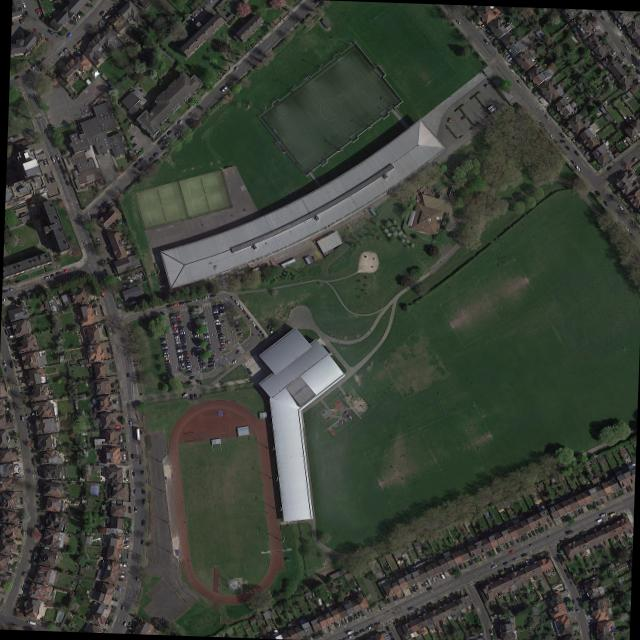large-vehicle: (220, 85, 227, 92), (438, 572, 445, 579), (345, 629, 353, 635), (135, 428, 139, 440), (26, 620, 35, 625), (65, 32, 71, 38), (599, 512, 606, 517), (594, 518, 601, 523), (608, 511, 615, 516), (565, 530, 572, 535), (426, 578, 431, 585), (164, 303, 171, 307), (100, 291, 104, 298), (62, 47, 67, 52), (114, 425, 120, 428)
small-vehicle: (488, 106, 495, 113), (46, 28, 53, 35), (194, 378, 201, 385), (173, 131, 180, 137), (187, 117, 194, 123), (557, 132, 564, 138), (545, 104, 552, 110), (127, 135, 134, 141), (71, 16, 78, 22), (73, 12, 80, 18), (103, 13, 110, 19), (486, 104, 493, 110), (622, 43, 628, 50), (485, 550, 491, 557), (377, 604, 383, 611), (575, 584, 582, 590), (608, 194, 614, 201), (197, 361, 205, 366), (583, 150, 589, 156), (161, 134, 167, 140), (176, 119, 182, 125), (482, 39, 488, 45), (130, 142, 136, 148), (112, 6, 118, 12), (137, 165, 143, 171), (137, 157, 143, 163), (147, 156, 153, 162), (152, 151, 158, 157), (629, 63, 635, 69), (619, 51, 625, 57), (609, 50, 615, 56), (572, 150, 578, 156), (181, 392, 187, 398), (555, 554, 561, 560), (346, 633, 352, 639), (602, 200, 608, 206), (628, 233, 634, 239), (634, 59, 640, 65), (605, 165, 611, 171), (598, 14, 604, 20), (617, 60, 623, 66), (633, 68, 639, 74), (628, 218, 634, 224), (622, 225, 628, 231), (573, 606, 578, 613), (27, 203, 34, 208), (570, 598, 575, 605), (510, 557, 517, 562), (200, 2, 207, 7), (187, 375, 194, 380), (176, 354, 183, 359), (351, 631, 358, 636), (494, 546, 499, 553), (364, 625, 371, 630), (526, 531, 531, 538), (131, 618, 138, 623), (187, 311, 194, 316), (194, 344, 201, 349), (206, 359, 213, 364), (216, 302, 223, 307), (128, 300, 135, 305), (118, 563, 126, 567), (208, 293, 216, 297), (122, 544, 128, 549), (568, 580, 573, 586), (459, 115, 465, 120), (507, 549, 513, 554), (524, 560, 529, 566), (30, 64, 36, 69), (57, 51, 63, 56), (165, 130, 171, 135), (501, 51, 507, 56), (503, 53, 509, 58), (505, 57, 511, 62), (544, 114, 549, 120), (538, 121, 543, 127), (543, 127, 548, 133), (548, 133, 553, 139), (564, 145, 569, 151), (569, 160, 575, 165), (574, 165, 579, 171), (159, 145, 165, 150), (155, 139, 161, 144), (39, 56, 45, 61), (35, 60, 40, 66), (39, 66, 45, 71), (109, 10, 115, 15), (233, 299, 238, 305), (241, 309, 246, 315), (230, 359, 236, 364), (31, 27, 37, 32), (37, 32, 43, 37), (43, 37, 49, 42), (455, 19, 460, 25), (17, 18, 22, 24), (232, 66, 238, 71), (198, 4, 204, 9), (203, 0, 209, 5), (595, 191, 600, 197), (509, 567, 514, 573), (425, 586, 431, 591), (410, 585, 415, 591), (387, 631, 392, 637), (384, 625, 389, 631), (385, 597, 390, 603), (508, 540, 513, 546), (576, 508, 581, 514), (624, 486, 629, 492), (565, 574, 570, 580), (579, 588, 584, 594), (519, 535, 524, 541), (562, 596, 568, 601), (539, 525, 544, 531), (359, 628, 365, 633), (491, 37, 496, 43), (587, 12, 593, 17), (159, 310, 164, 316), (580, 593, 586, 598), (20, 596, 26, 601), (21, 587, 27, 592), (307, 634, 312, 640), (617, 204, 622, 210), (586, 22, 591, 28), (631, 78, 637, 83), (630, 157, 636, 162), (105, 257, 110, 263), (90, 303, 96, 308), (10, 623, 17, 627), (184, 364, 191, 368), (196, 359, 203, 363), (206, 363, 213, 367), (448, 594, 452, 601), (373, 621, 380, 625), (4, 571, 11, 575), (104, 619, 108, 626), (110, 597, 117, 601), (183, 299, 190, 303), (184, 370, 191, 374), (182, 356, 189, 360), (176, 325, 183, 329), (188, 320, 195, 324), (189, 323, 196, 327), (189, 326, 196, 330), (233, 324, 240, 328), (206, 356, 213, 360), (197, 315, 204, 319), (19, 414, 23, 421), (192, 336, 199, 340), (217, 308, 224, 312), (45, 178, 50, 183), (48, 177, 53, 182), (132, 149, 137, 154), (430, 577, 435, 582), (164, 141, 169, 146), (480, 22, 485, 27), (515, 79, 520, 84), (98, 10, 103, 15), (75, 49, 80, 54), (97, 205, 102, 210), (102, 200, 107, 205), (132, 162, 137, 167), (237, 305, 242, 310), (246, 315, 251, 320), (250, 321, 255, 326), (253, 325, 258, 330), (229, 295, 234, 300), (466, 560, 471, 565), (421, 608, 426, 613), (457, 564, 462, 569), (406, 614, 411, 619), (562, 569, 567, 574), (558, 560, 563, 565), (348, 615, 353, 620), (629, 53, 634, 58), (62, 174, 66, 180), (50, 156, 54, 162), (121, 454, 125, 460), (6, 136, 12, 140), (113, 398, 117, 404), (117, 570, 123, 574), (11, 134, 17, 138), (54, 154, 58, 160), (42, 160, 46, 166), (502, 561, 508, 565), (490, 564, 496, 568), (34, 8, 40, 12), (60, 169, 64, 175), (58, 164, 62, 170), (23, 10, 27, 16), (105, 17, 111, 21), (266, 324, 270, 330), (172, 302, 178, 306), (171, 329, 177, 333), (172, 335, 178, 339), (184, 367, 190, 371), (174, 311, 180, 315), (177, 328, 183, 332), (21, 2, 25, 8), (191, 12, 197, 16), (212, 318, 218, 322), (179, 339, 185, 343), (180, 342, 186, 346), (171, 326, 177, 330), (192, 333, 198, 337), (168, 318, 174, 322), (174, 343, 180, 347), (178, 333, 184, 337), (182, 353, 188, 357), (195, 347, 201, 351), (203, 337, 209, 341), (178, 365, 184, 369), (173, 340, 179, 344), (61, 269, 67, 273), (198, 365, 204, 369), (1, 360, 5, 366), (7, 287, 13, 291), (6, 329, 10, 335), (43, 275, 49, 279), (96, 324, 102, 328), (236, 332, 242, 336), (218, 311, 224, 315), (212, 315, 218, 319), (489, 634, 493, 640), (406, 606, 412, 610), (391, 595, 395, 601), (567, 609, 573, 613), (566, 606, 572, 610), (534, 528, 538, 534), (357, 611, 361, 617), (17, 606, 23, 610), (38, 497, 44, 501), (24, 69, 30, 73), (191, 331, 197, 335), (343, 617, 347, 623), (317, 629, 321, 635), (122, 620, 126, 626), (120, 605, 124, 611), (114, 587, 120, 591), (122, 540, 128, 544), (122, 532, 128, 536), (190, 298, 196, 302), (174, 346, 180, 350), (181, 350, 187, 354), (181, 347, 187, 351), (196, 353, 202, 357), (194, 342, 200, 346), (196, 296, 202, 300), (211, 312, 217, 316), (616, 23, 620, 29), (207, 354, 213, 358), (205, 348, 211, 352), (210, 304, 216, 308), (11, 473, 19, 476), (8, 334, 14, 338), (6, 296, 12, 300), (1, 398, 7, 402), (4, 404, 8, 410), (4, 417, 8, 423), (11, 402, 15, 408), (8, 362, 12, 368), (109, 408, 115, 412), (127, 420, 131, 426), (129, 453, 133, 459), (202, 329, 208, 333), (204, 343, 210, 347), (166, 373, 172, 377), (166, 370, 172, 374), (164, 362, 170, 366), (54, 271, 60, 275), (158, 337, 164, 341), (93, 310, 97, 316), (105, 347, 109, 353), (205, 0, 212, 3), (175, 349, 182, 352), (197, 313, 204, 316), (210, 307, 217, 310), (188, 318, 195, 321), (196, 356, 203, 359), (234, 328, 241, 331), (95, 243, 102, 246), (43, 173, 47, 178), (13, 75, 18, 79), (423, 581, 427, 586), (64, 180, 68, 185), (485, 30, 490, 34), (511, 63, 516, 67), (531, 87, 536, 91), (56, 159, 60, 164), (71, 54, 76, 58), (96, 24, 101, 28), (234, 350, 239, 354), (188, 17, 193, 21), (214, 321, 219, 325), (219, 347, 224, 351), (3, 367, 7, 372), (521, 561, 525, 566), (514, 538, 518, 543), (188, 394, 192, 399), (192, 393, 196, 398), (543, 553, 548, 557), (592, 528, 596, 533), (38, 533, 42, 538), (21, 570, 25, 575), (342, 636, 347, 640), (335, 621, 339, 626), (109, 608, 114, 612), (117, 577, 122, 581), (122, 477, 127, 481), (179, 336, 184, 340), (199, 318, 204, 322), (30, 412, 35, 416), (31, 446, 36, 450), (109, 383, 113, 388), (162, 354, 168, 357), (24, 130, 30, 133), (520, 553, 526, 556), (558, 139, 564, 142), (269, 327, 272, 333), (202, 295, 208, 298), (177, 301, 183, 304), (170, 324, 176, 327), (174, 315, 180, 318), (178, 331, 184, 334), (203, 335, 209, 338), (196, 8, 202, 11), (211, 310, 217, 313), (183, 362, 189, 365), (174, 317, 180, 320), (173, 338, 179, 341), (204, 346, 210, 349), (188, 315, 194, 318), (217, 338, 223, 341), (182, 359, 188, 362), (216, 333, 222, 336), (214, 324, 220, 327), (488, 629, 491, 635), (476, 635, 482, 638), (476, 632, 482, 635), (141, 488, 144, 494), (7, 565, 10, 571), (16, 520, 22, 523), (233, 320, 239, 323), (206, 351, 212, 354), (195, 351, 201, 354), (14, 356, 20, 359), (117, 574, 123, 577), (141, 519, 144, 525), (138, 458, 141, 464), (168, 313, 174, 316), (172, 332, 178, 335), (180, 345, 186, 348), (175, 320, 181, 323), (190, 350, 193, 356), (200, 321, 206, 324), (23, 388, 29, 391), (5, 325, 11, 328), (118, 435, 121, 441), (118, 449, 124, 452), (119, 461, 125, 464), (116, 442, 122, 445), (10, 339, 16, 342), (200, 324, 206, 327), (161, 348, 167, 351), (201, 327, 207, 330), (203, 341, 209, 344), (165, 368, 171, 371), (165, 365, 171, 368), (160, 343, 166, 346), (184, 381, 190, 384), (481, 554, 485, 558), (419, 583, 423, 587), (366, 607, 370, 611), (604, 31, 608, 35), (590, 28, 594, 32), (110, 400, 114, 404), (161, 346, 166, 349), (93, 237, 98, 240), (122, 537, 127, 540), (36, 11, 41, 14), (224, 340, 229, 343), (176, 323, 181, 326), (219, 320, 224, 323), (178, 363, 183, 366), (169, 315, 174, 318), (218, 336, 223, 339), (216, 330, 221, 333), (215, 327, 220, 330), (218, 306, 223, 309), (582, 597, 587, 600), (140, 470, 143, 475), (586, 613, 591, 616), (0, 574, 5, 577), (188, 309, 193, 312), (202, 332, 207, 335), (198, 310, 203, 313), (177, 358, 182, 361), (135, 576, 138, 581), (118, 557, 123, 560), (141, 539, 144, 544), (133, 507, 136, 512), (132, 489, 135, 494), (131, 472, 134, 477), (176, 352, 181, 355), (177, 360, 182, 363), (4, 410, 9, 413), (110, 389, 115, 392), (114, 429, 119, 432), (93, 240, 98, 243), (160, 340, 164, 343), (163, 351, 167, 354), (220, 344, 224, 347), (39, 523, 43, 526), (131, 622, 133, 628), (49, 273, 52, 277), (88, 0, 93, 2), (218, 342, 223, 344), (574, 638, 579, 640), (16, 526, 21, 528), (142, 498, 144, 503), (126, 372, 128, 377), (390, 637, 393, 640), (164, 357, 168, 359), (7, 557, 11, 559)
